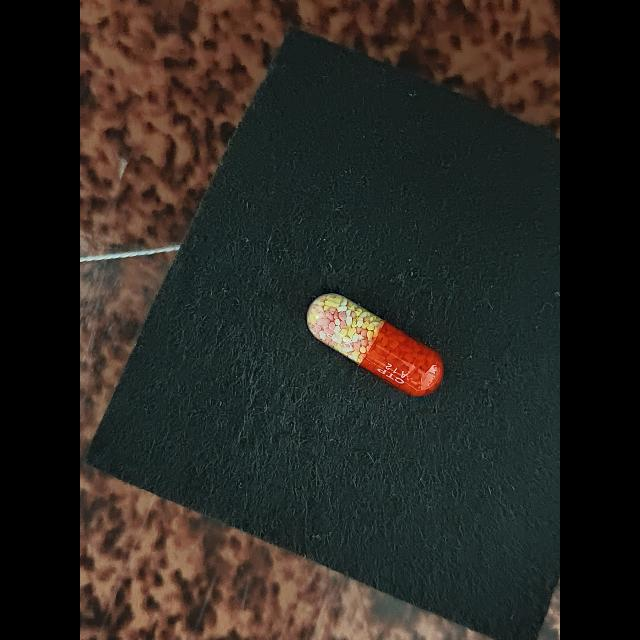Intact Capsule: (307, 293, 444, 396)
